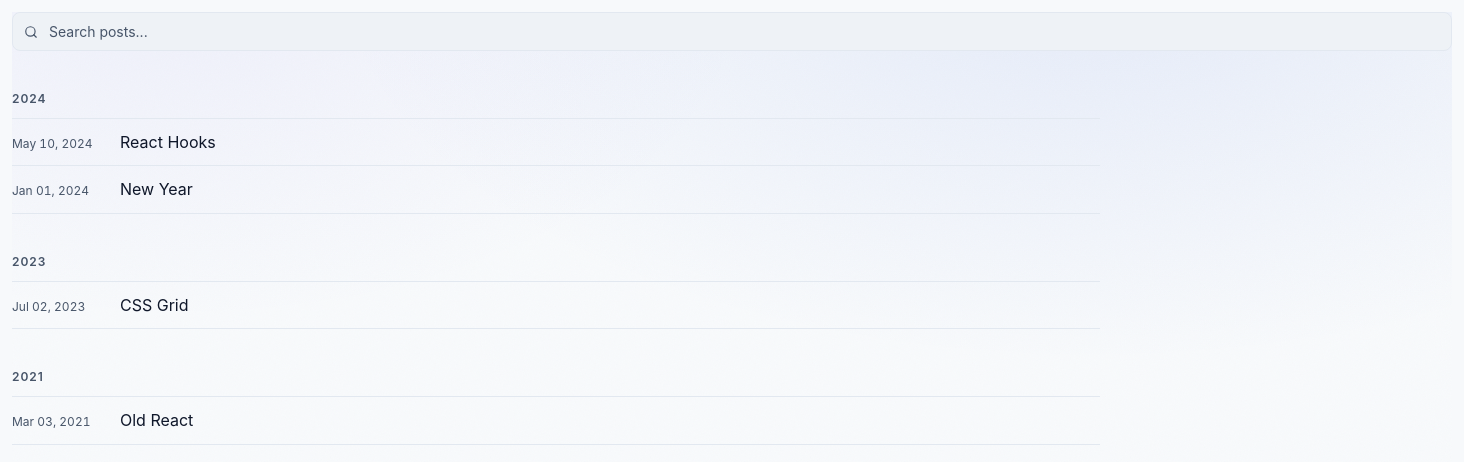
Test: SearchPosts › shows an empty state naming the query when nothing matches
The width and height of the screenshot is (1464, 462).
In the search field labelled "Search posts": (732, 32) [12,12,1452,51], type "vue"
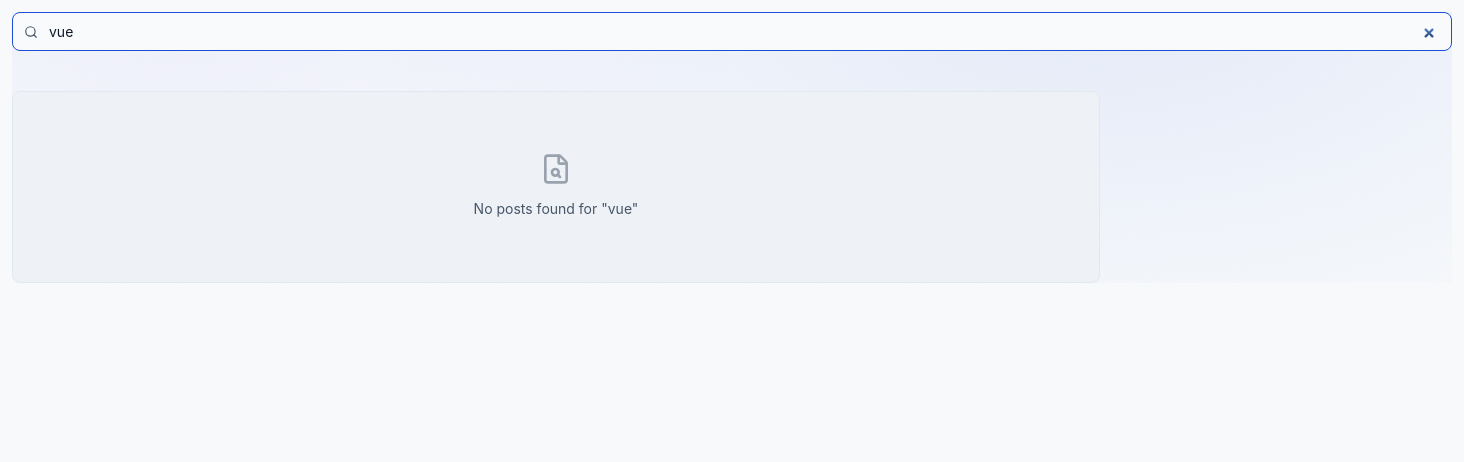
Expected: the text "No posts found for \"vue\"" is shown, [474,198,638,221]
Expected: the heading "2024" is gone
